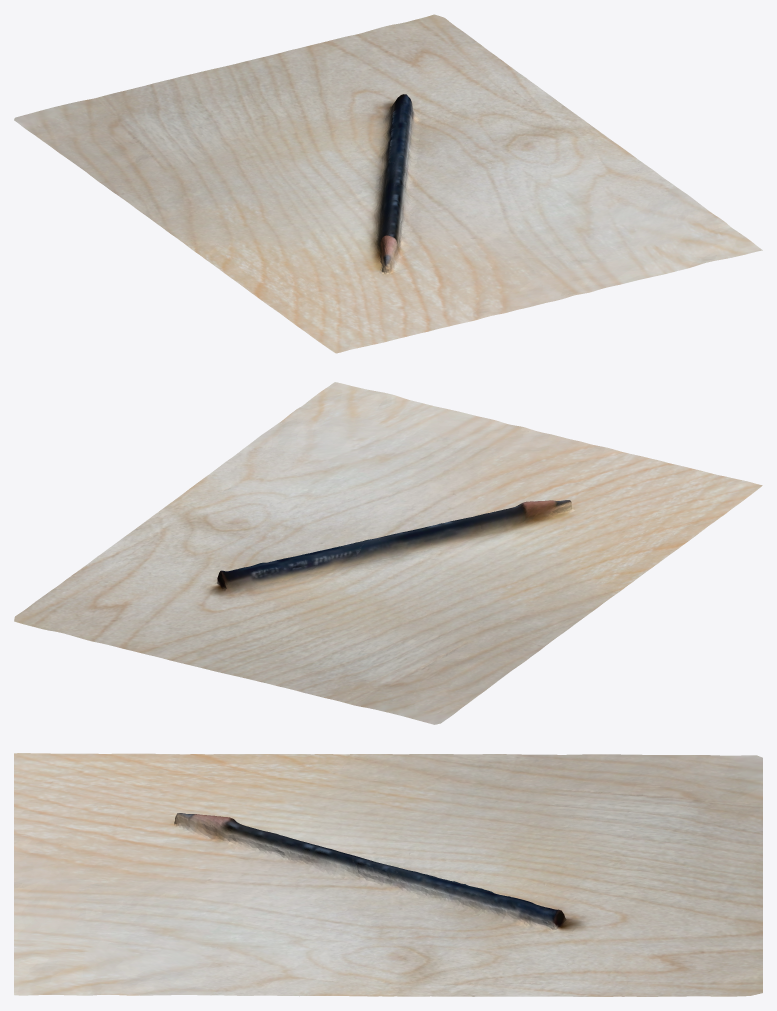
File: pensil.glb
3 renders of one model, top to bottom at view 1: azimuth 30°, elevation 25°; view 2: azimuth 150°, elevation 25°; view 3: azimuth 270°, elevation 25°, orthographic. The views are drawn at different scales.
Bounding box in the file's own units: 0.7398 × 0.0285 × 0.9715.
1 material, 1 textured.
